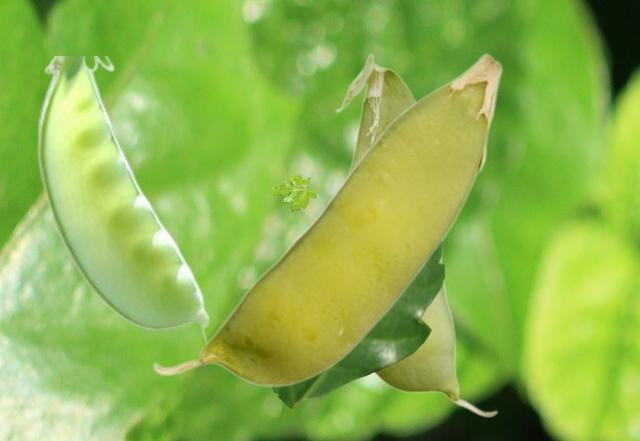pea: (152, 53, 502, 386), (334, 53, 498, 417), (36, 56, 207, 345)
